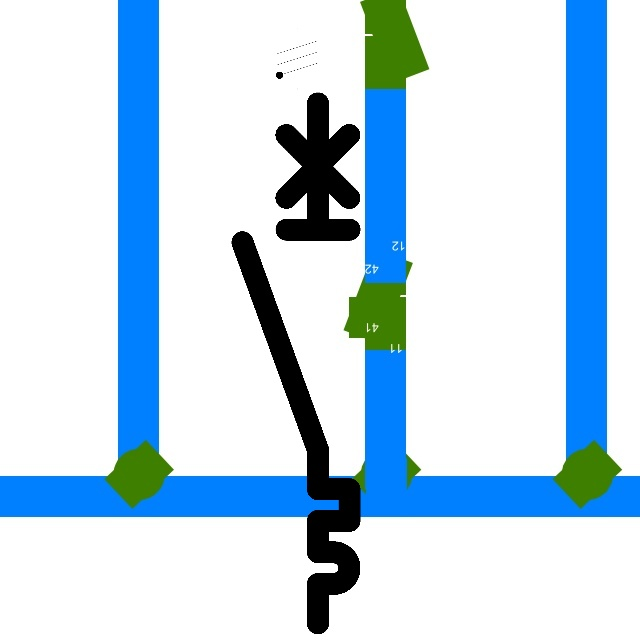interruptor_termomagnetico: (229, 89, 363, 636)
